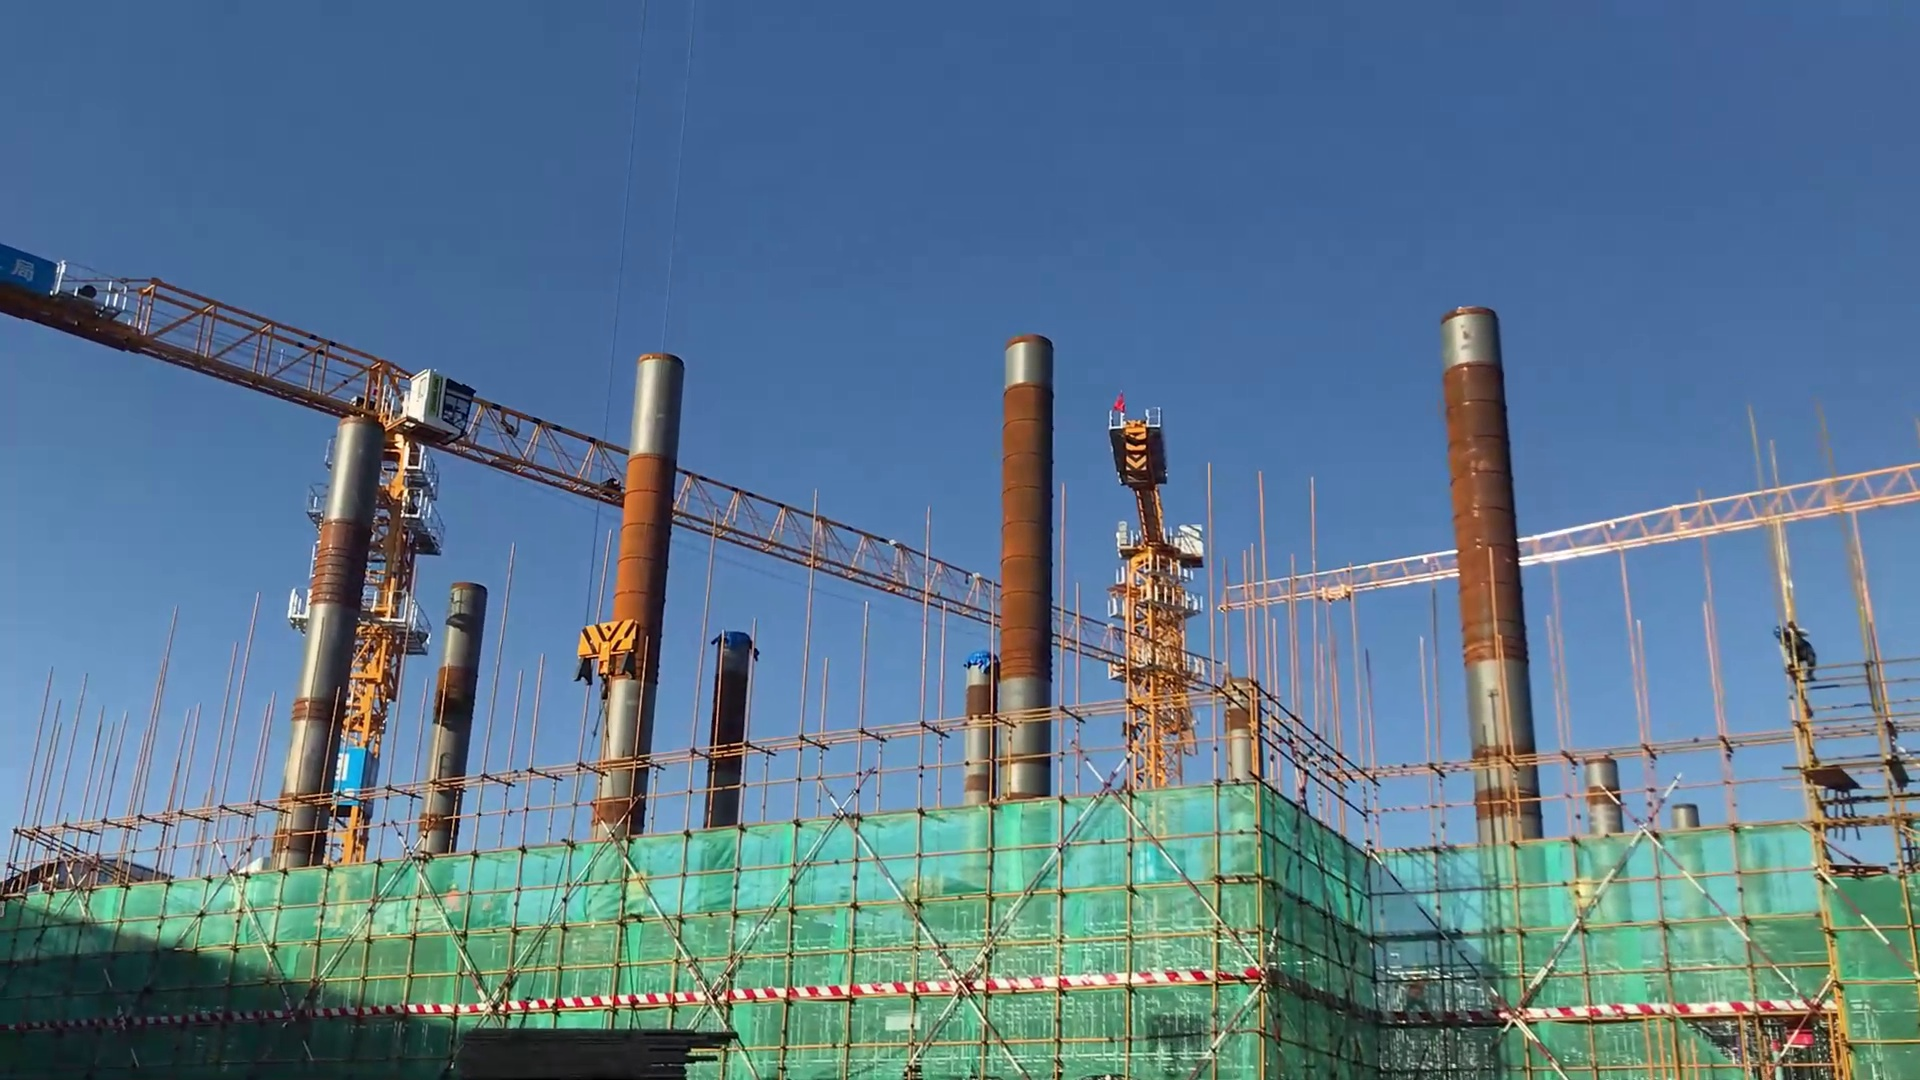hook: (572, 616, 640, 688)
person: (1771, 617, 1824, 687)
wood: (448, 1019, 725, 1080)
